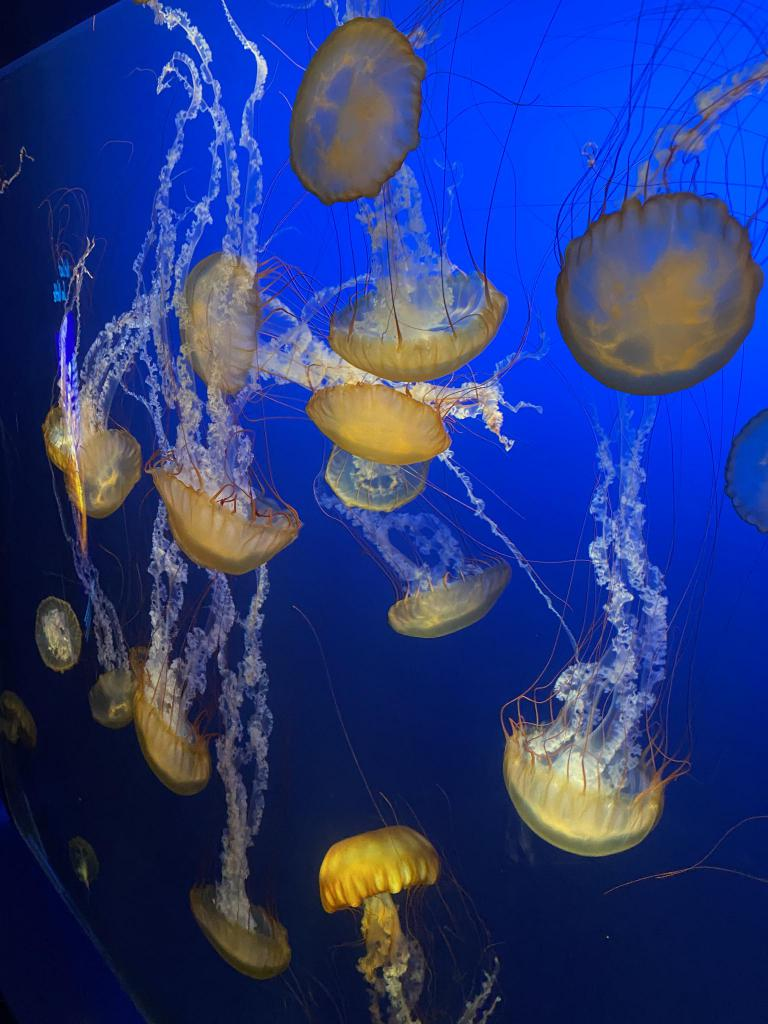jellyfish: (552, 192, 764, 396), (286, 15, 424, 207), (502, 722, 662, 858), (327, 272, 505, 384), (151, 464, 301, 576), (306, 382, 450, 464), (40, 404, 142, 518), (180, 251, 258, 397), (319, 824, 441, 914), (186, 879, 290, 977), (389, 558, 509, 638), (132, 678, 208, 798), (326, 442, 430, 512), (725, 407, 767, 533), (33, 598, 83, 672), (0, 690, 38, 746), (69, 838, 97, 878)
